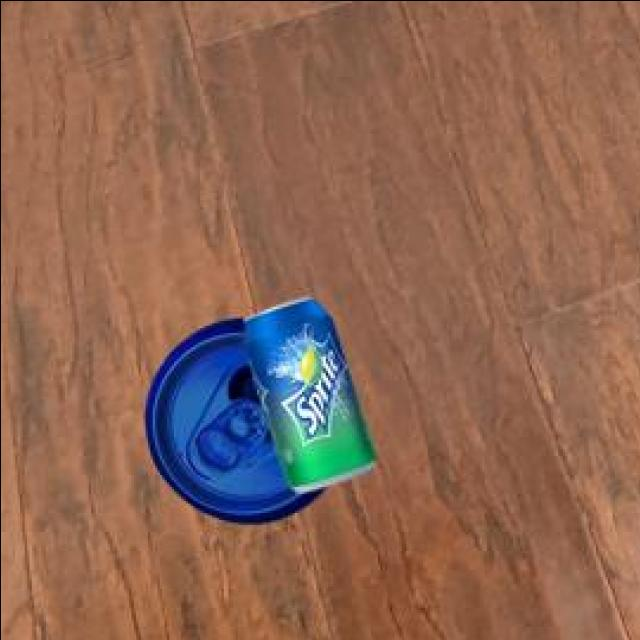logam: (141, 314, 321, 520), (238, 295, 371, 487)
